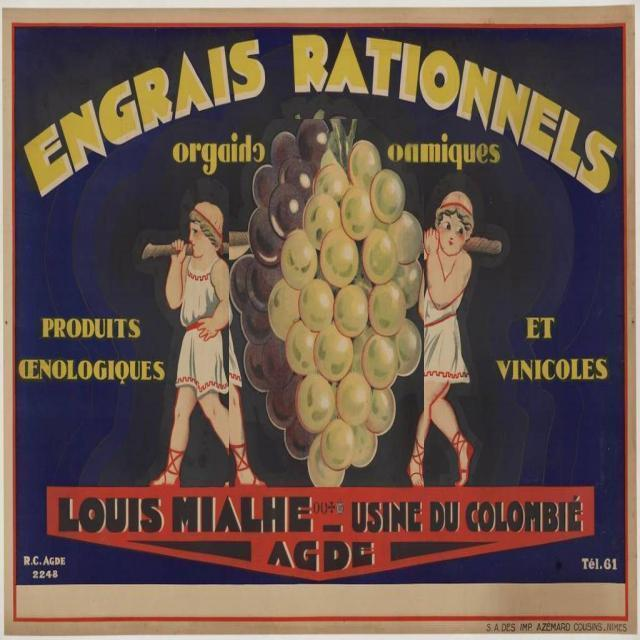Grape: (229, 119, 424, 492)
